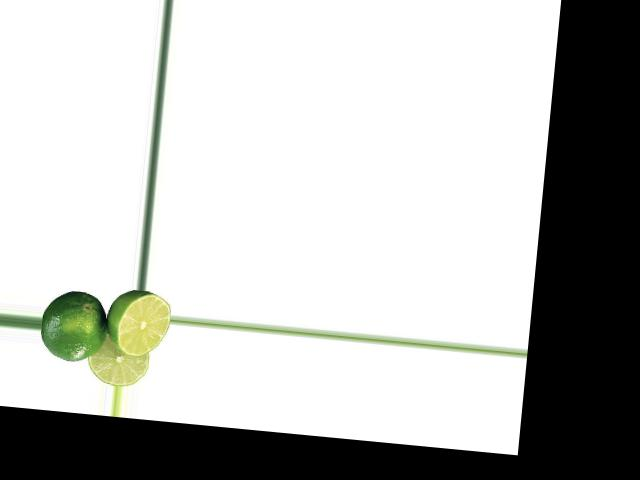lemon: (39, 290, 113, 363)
